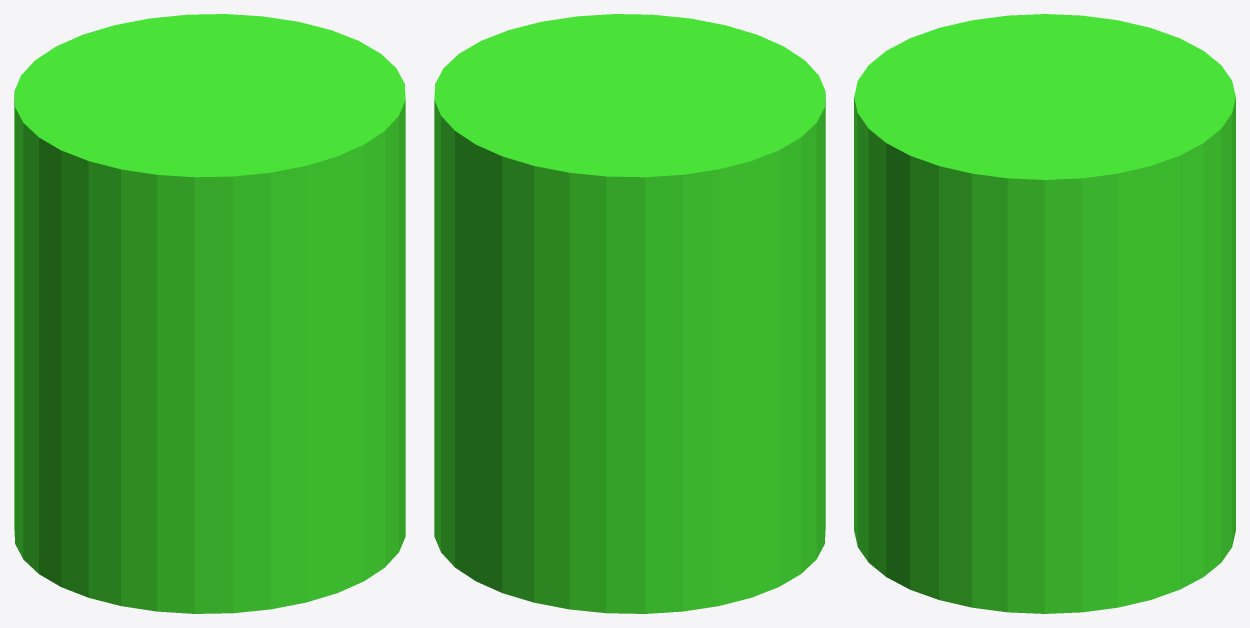
The model's file is Battery2.obj.
3 renders of one model, left to right at view 1: azimuth 30°, elevation 25°; view 2: azimuth 150°, elevation 25°; view 3: azimuth 270°, elevation 25°, orthographic.
Parts seen in each view (by area): view 1: Cylinder; view 2: Cylinder; view 3: Cylinder.
Boxes of the visible parts, bbox=[...] form: Cylinder: bbox=[14, 14, 405, 613]; Cylinder: bbox=[434, 14, 825, 613]; Cylinder: bbox=[854, 14, 1235, 613].
Size of the model in its own units: 0.3956 by 0.4824 by 0.3845.
